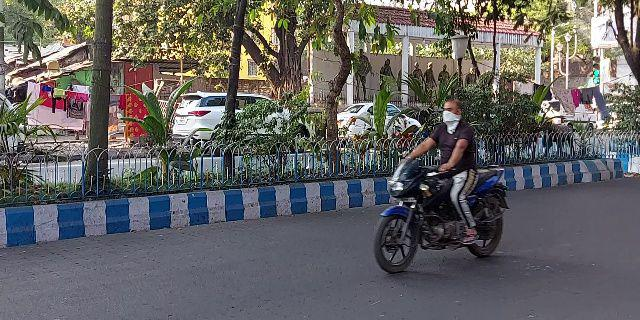Motorbike: (367, 93, 511, 277)
